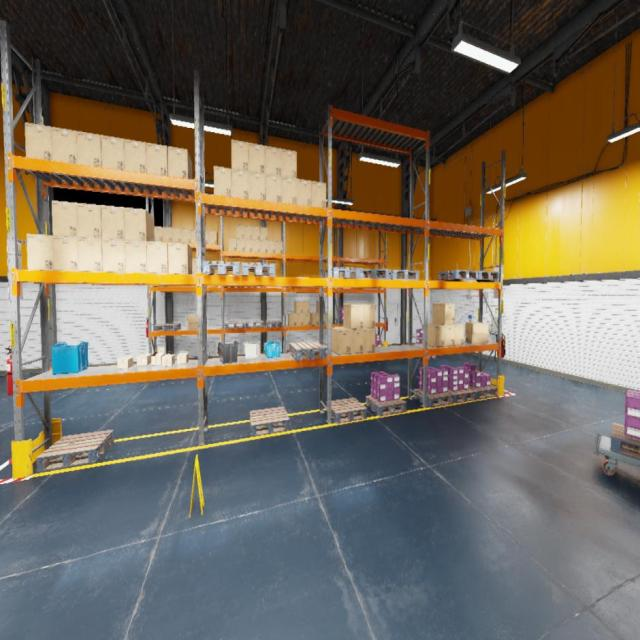box: (124, 208, 154, 241), (51, 126, 77, 164), (26, 122, 52, 160), (27, 233, 53, 270), (52, 200, 77, 237), (52, 236, 78, 271), (77, 131, 101, 167), (100, 205, 124, 240), (77, 203, 101, 238), (167, 146, 192, 179), (100, 135, 124, 169), (78, 238, 102, 272), (168, 242, 193, 274), (102, 239, 125, 272), (146, 142, 168, 176), (124, 139, 146, 172), (125, 240, 147, 273), (146, 241, 168, 273), (248, 142, 265, 174), (343, 304, 364, 329), (248, 172, 266, 201), (232, 139, 248, 171), (214, 166, 231, 196), (465, 322, 489, 343), (332, 328, 351, 354), (422, 324, 444, 346), (432, 303, 454, 325), (281, 148, 297, 178), (232, 169, 248, 199), (266, 146, 281, 176), (436, 324, 454, 347), (266, 175, 281, 202), (282, 177, 297, 204), (297, 178, 311, 206), (312, 181, 326, 208), (351, 329, 364, 353), (364, 328, 375, 353), (364, 304, 375, 328), (151, 346, 164, 365), (454, 323, 464, 346), (118, 356, 133, 368), (162, 354, 175, 366), (137, 354, 151, 365), (188, 315, 198, 330), (162, 227, 172, 242), (208, 273, 218, 287), (172, 227, 181, 242), (177, 352, 189, 363), (208, 231, 218, 244), (182, 228, 190, 242), (154, 227, 162, 241), (244, 225, 252, 239), (294, 301, 303, 313), (316, 312, 324, 325), (310, 312, 318, 325), (288, 313, 296, 326), (252, 227, 260, 240), (244, 239, 252, 252), (316, 301, 325, 312), (237, 238, 244, 252), (252, 240, 260, 252), (260, 228, 268, 240), (228, 238, 236, 250), (303, 313, 310, 326), (296, 313, 303, 326), (276, 241, 283, 254), (268, 240, 275, 253), (237, 225, 244, 238), (190, 273, 196, 287), (261, 240, 268, 252), (303, 301, 309, 313), (326, 313, 332, 324), (191, 230, 196, 243), (192, 259, 196, 272), (206, 231, 208, 244)
pallets: (36, 430, 114, 472), (250, 406, 289, 436), (611, 423, 639, 460), (327, 398, 367, 423), (366, 396, 406, 416), (414, 389, 454, 407), (290, 342, 326, 361), (202, 261, 240, 275), (446, 388, 476, 403), (241, 263, 275, 276), (438, 270, 478, 281), (468, 386, 497, 400), (460, 271, 500, 281), (324, 268, 360, 278), (360, 268, 390, 279), (388, 270, 418, 280), (154, 324, 180, 332), (245, 320, 264, 328), (225, 322, 245, 329), (265, 321, 282, 326), (336, 319, 343, 324)
